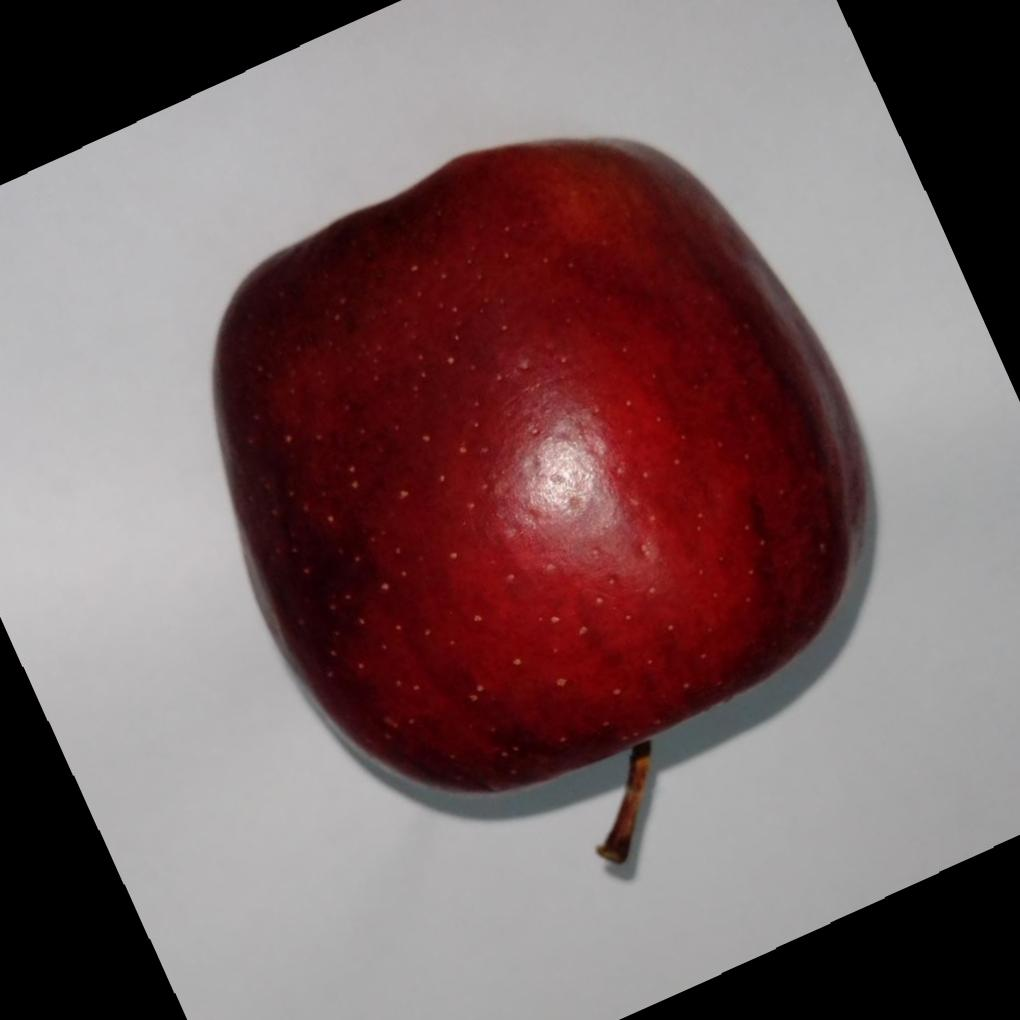FreshOrange: (211, 139, 870, 818)
